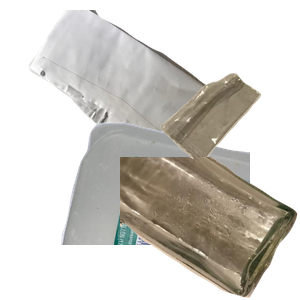glass: (120, 157, 300, 300)
paper: (27, 10, 252, 187)
plastic: (58, 120, 298, 300)
trash: (158, 71, 300, 227)
